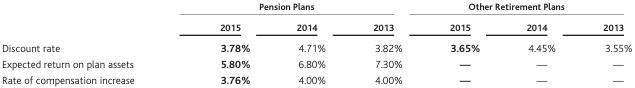table: (1, 0, 631, 85)
table column: (1, 0, 176, 85), (176, 0, 272, 85), (348, 0, 425, 85), (425, 0, 502, 85), (272, 0, 348, 85), (502, 0, 578, 85), (578, 0, 631, 85)
table column header: (1, 0, 631, 36)
table row: (1, 16, 631, 36), (1, 36, 631, 55), (1, 0, 631, 16), (1, 55, 631, 71), (1, 71, 631, 85)
table spanning cell: (176, 0, 425, 16), (425, 0, 631, 16)
